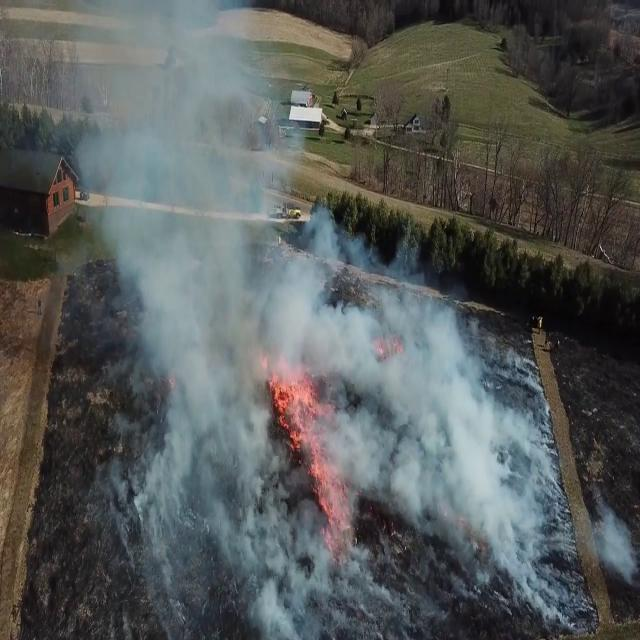Fire: (268, 341, 338, 495)
Smoke: (34, 0, 333, 630), (276, 276, 576, 618), (591, 489, 640, 587)
